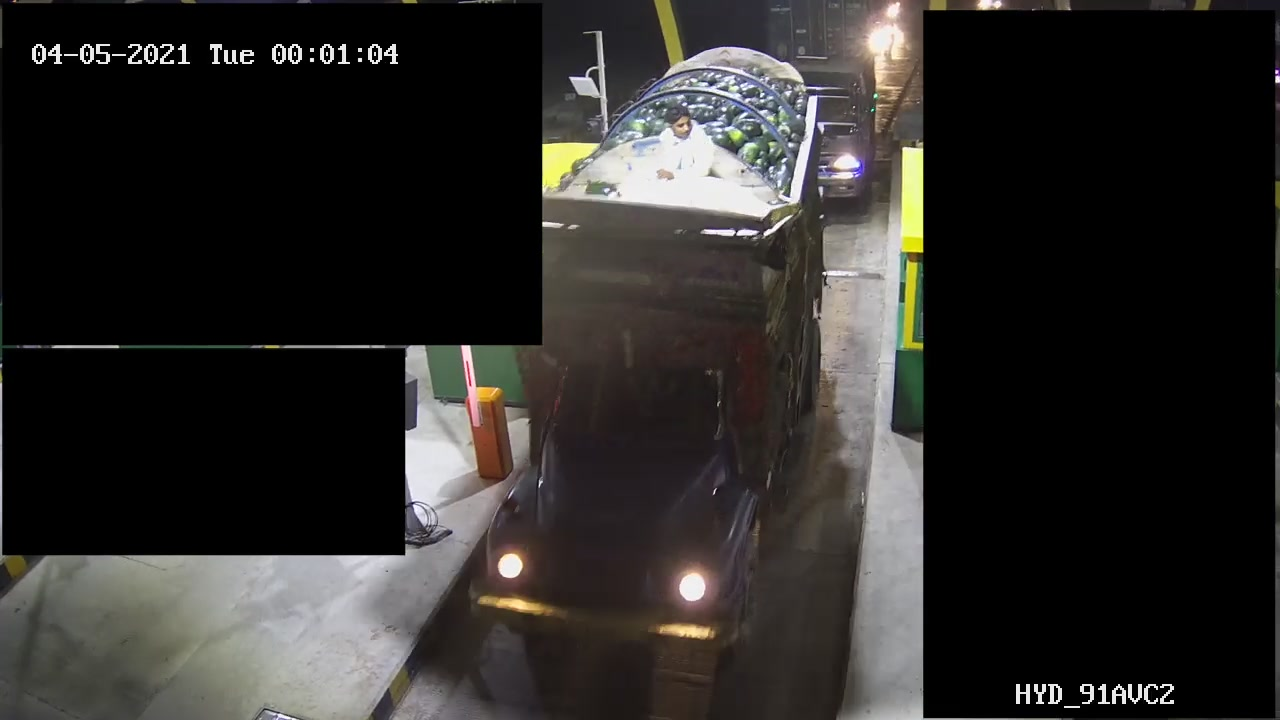F5: (453, 47, 828, 680)
